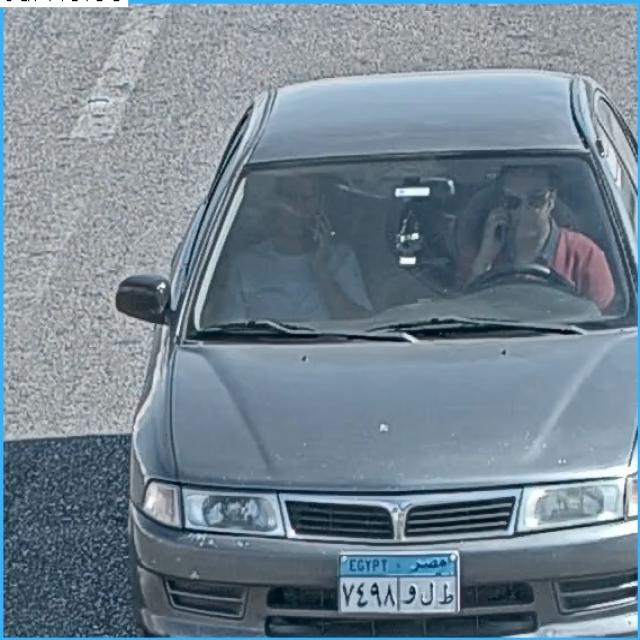windshield: (203, 163, 640, 327)
